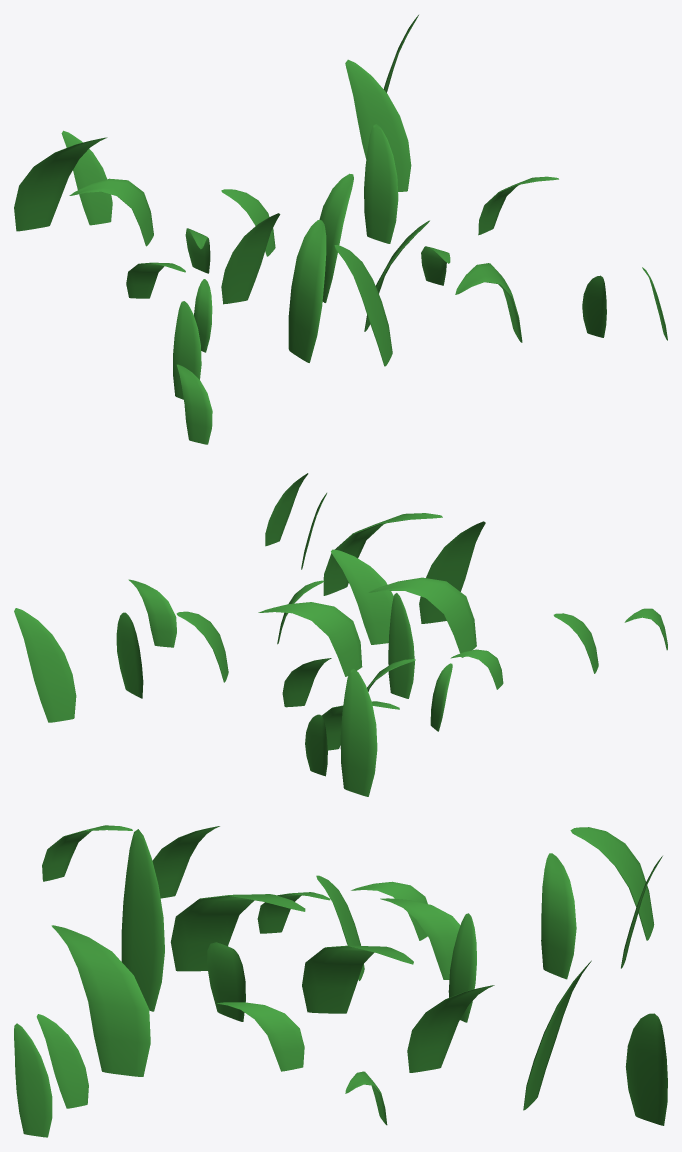
Rendered from grass clump 5.fbx.
The picture shows the model from 3 angles, top to bottom: view 1: azimuth 30°, elevation 25°; view 2: azimuth 150°, elevation 25°; view 3: azimuth 270°, elevation 25°; orthographic projection. The views are drawn at different scales.
Parts seen in each view (by area): view 1: Grass Clump 5; view 2: Grass Clump 5; view 3: Grass Clump 5.
Part boxes in pixels (bbox=[...]): Grass Clump 5: bbox=[14, 15, 667, 444]; Grass Clump 5: bbox=[14, 473, 667, 796]; Grass Clump 5: bbox=[14, 825, 667, 1137].
Size of the model in its own units: 203 by 50.31 by 203.
